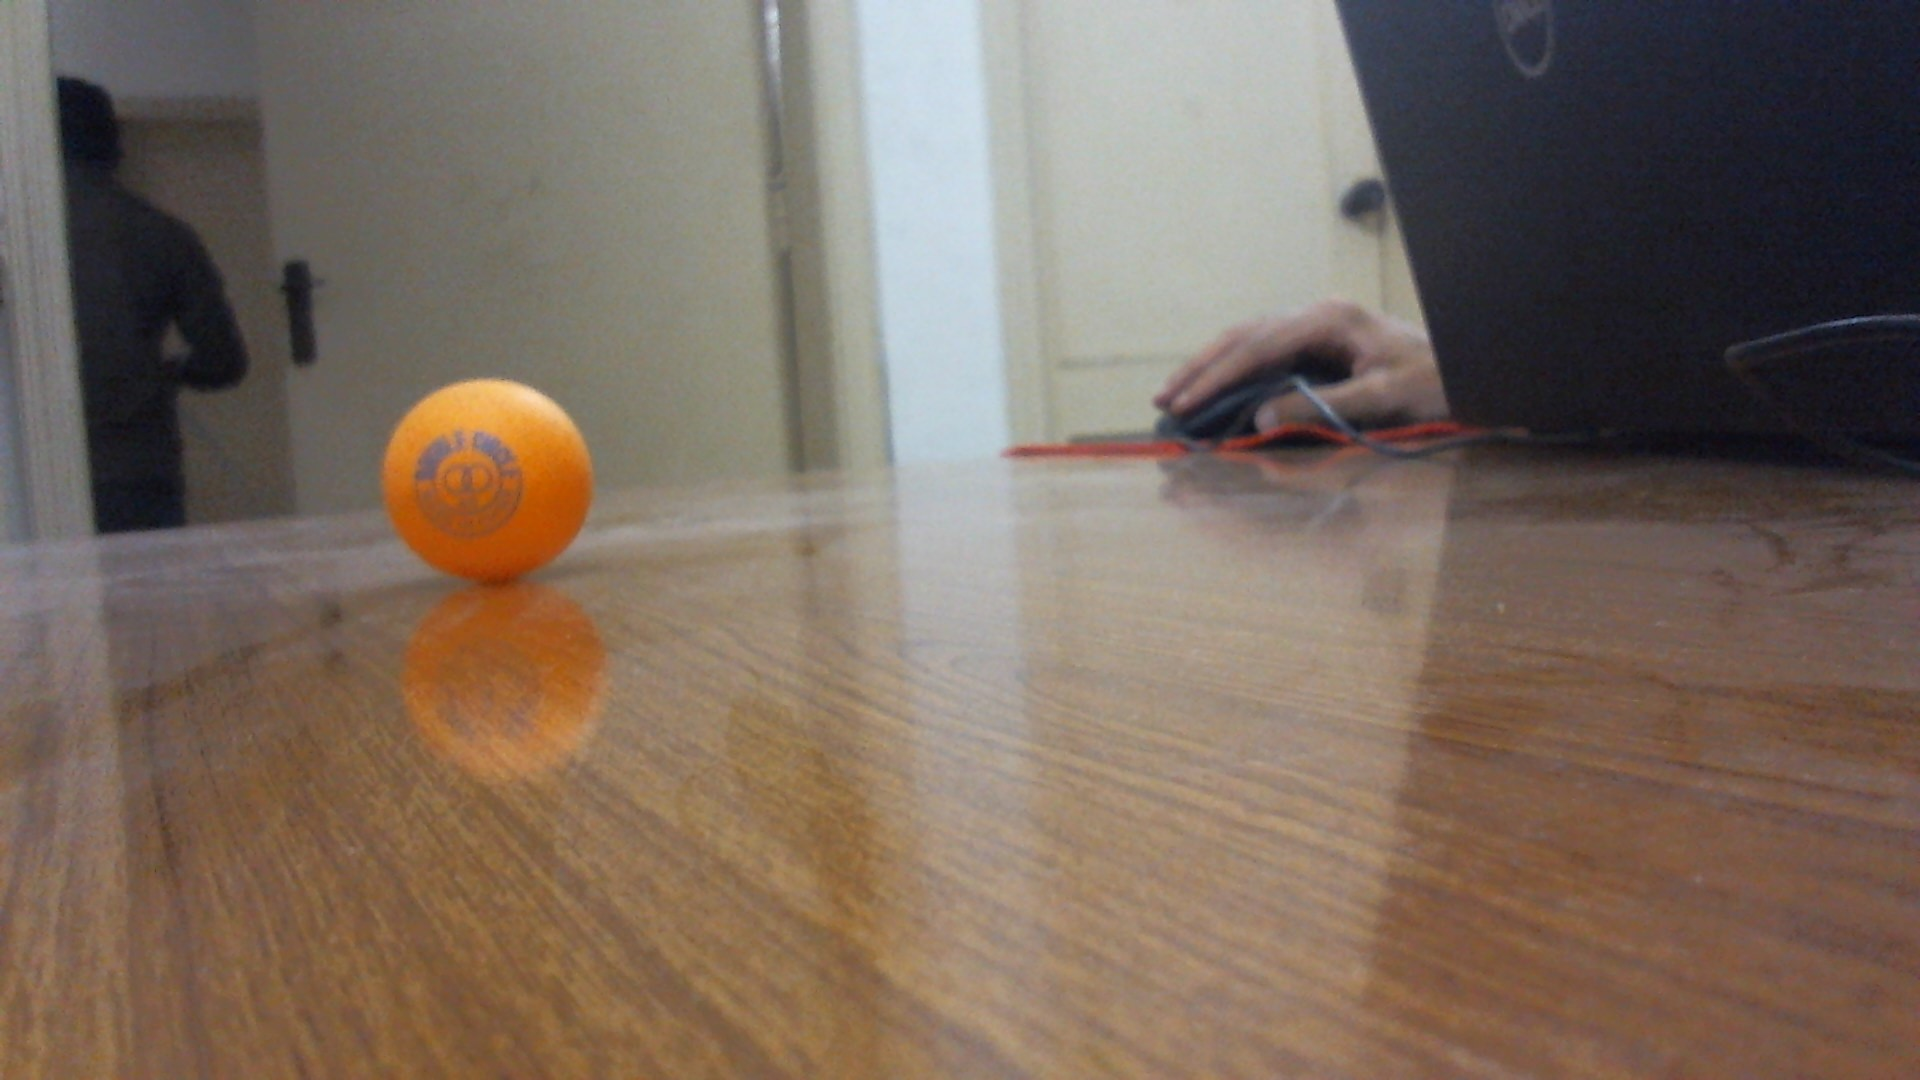ball: (378, 377, 600, 587)
